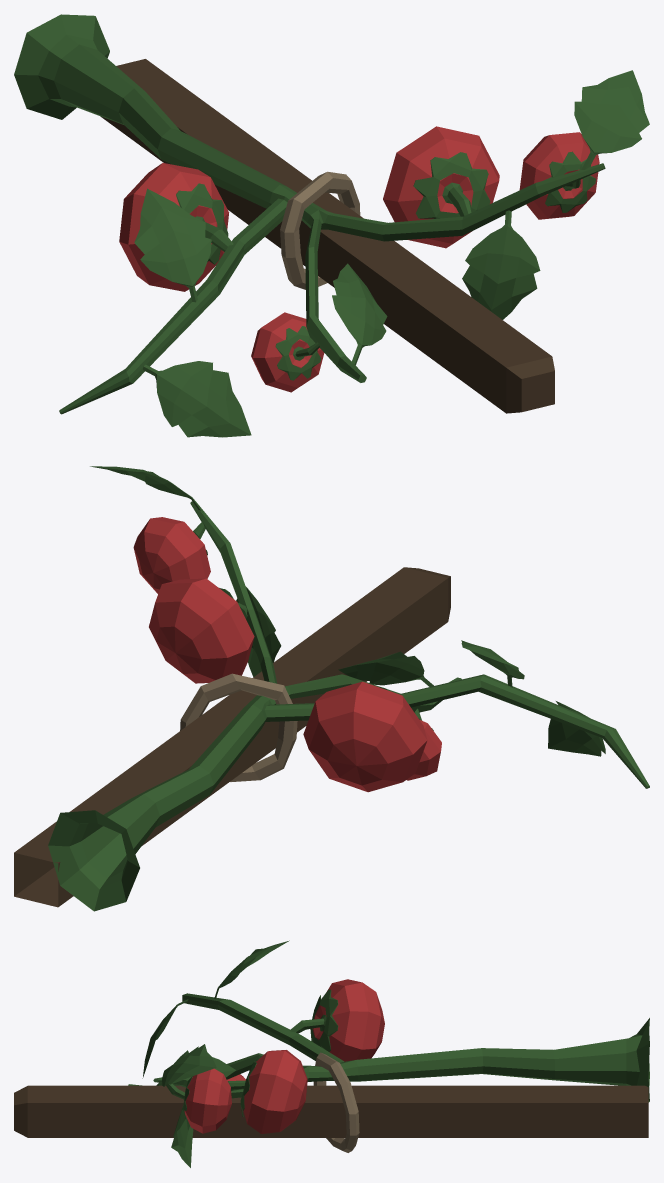
Rendered from Tomatoes1_P.fbx.
The picture shows the model from 3 angles, top to bottom: view 1: azimuth 30°, elevation 25°; view 2: azimuth 150°, elevation 25°; view 3: azimuth 270°, elevation 25°; orthographic projection. The views are drawn at different scales.
Parts seen in each view (by area): view 1: Tomatoes1_P; view 2: Tomatoes1_P; view 3: Tomatoes1_P.
Part boxes in pixels (x1,y1,x2,y2): Tomatoes1_P: (14, 14, 649, 437); Tomatoes1_P: (14, 466, 649, 911); Tomatoes1_P: (14, 940, 649, 1167).
Size of the model in its own units: 2.15 by 2.68 by 0.8616.
